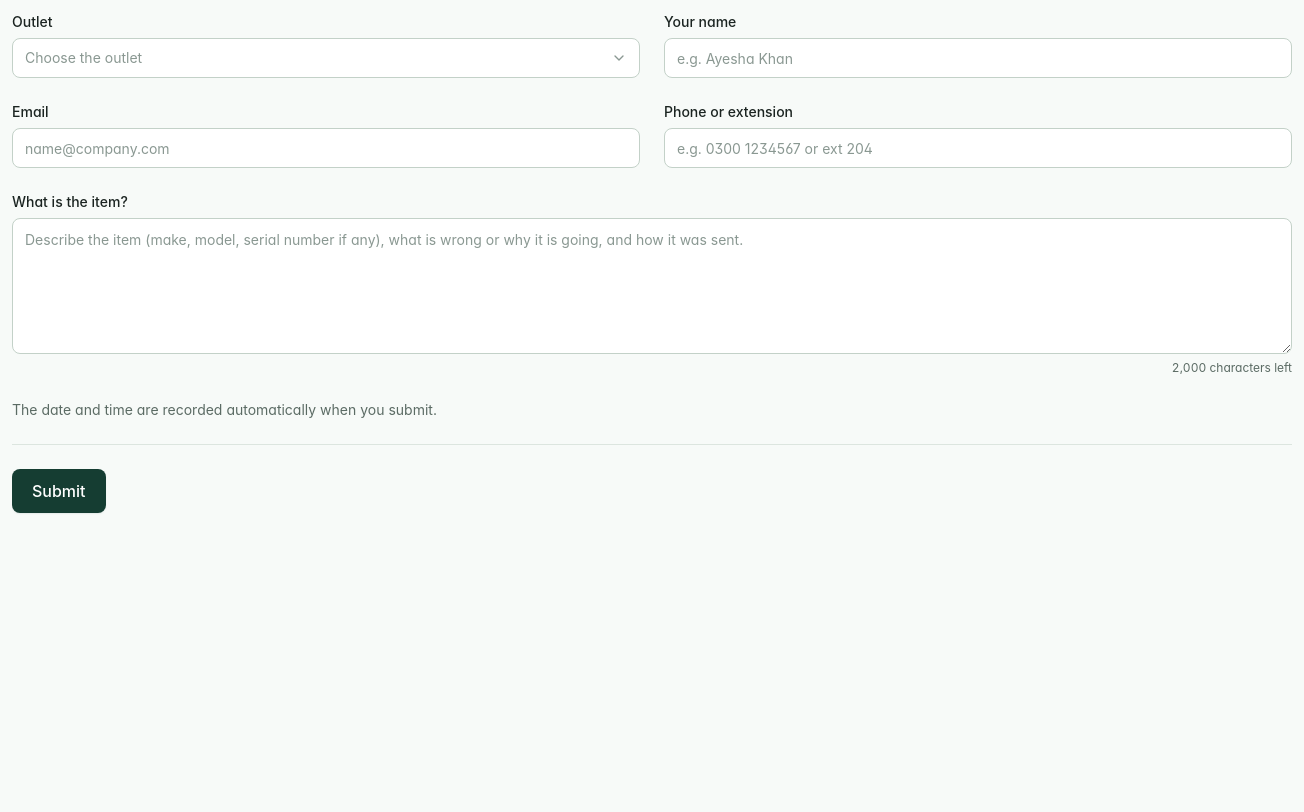
Test: TransferForm (public) › keeps what you typed and explains the problem when the server says no
The image size is (1304, 812).
Type "Ayesha Khan" into the field labelled "Your name" at (978, 58), box [664,38,1292,78]
Type "ayesha@example.com" into the field labelled "Email" at (326, 148), box [12,128,640,168]
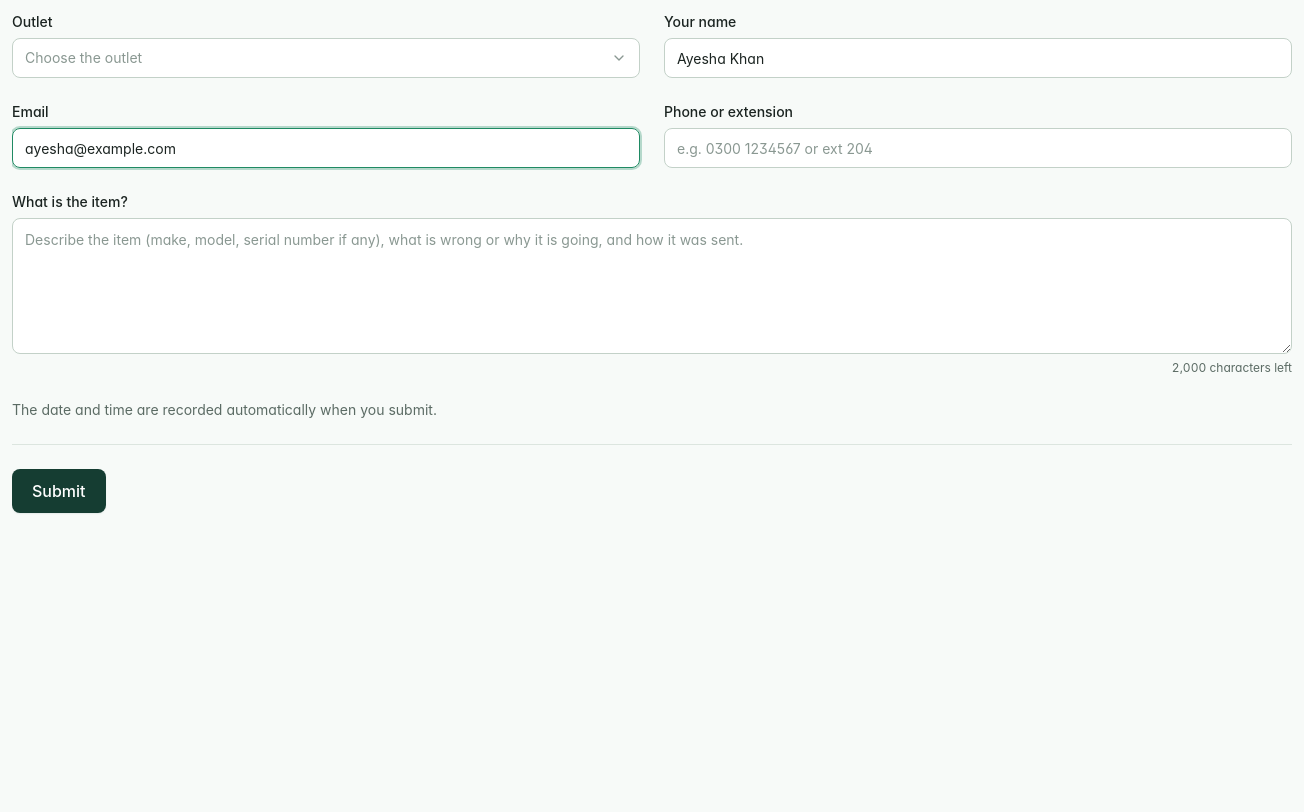
Type "0300 1234567" into the field labelled "Phone or extension" at (978, 148), box [664,128,1292,168]
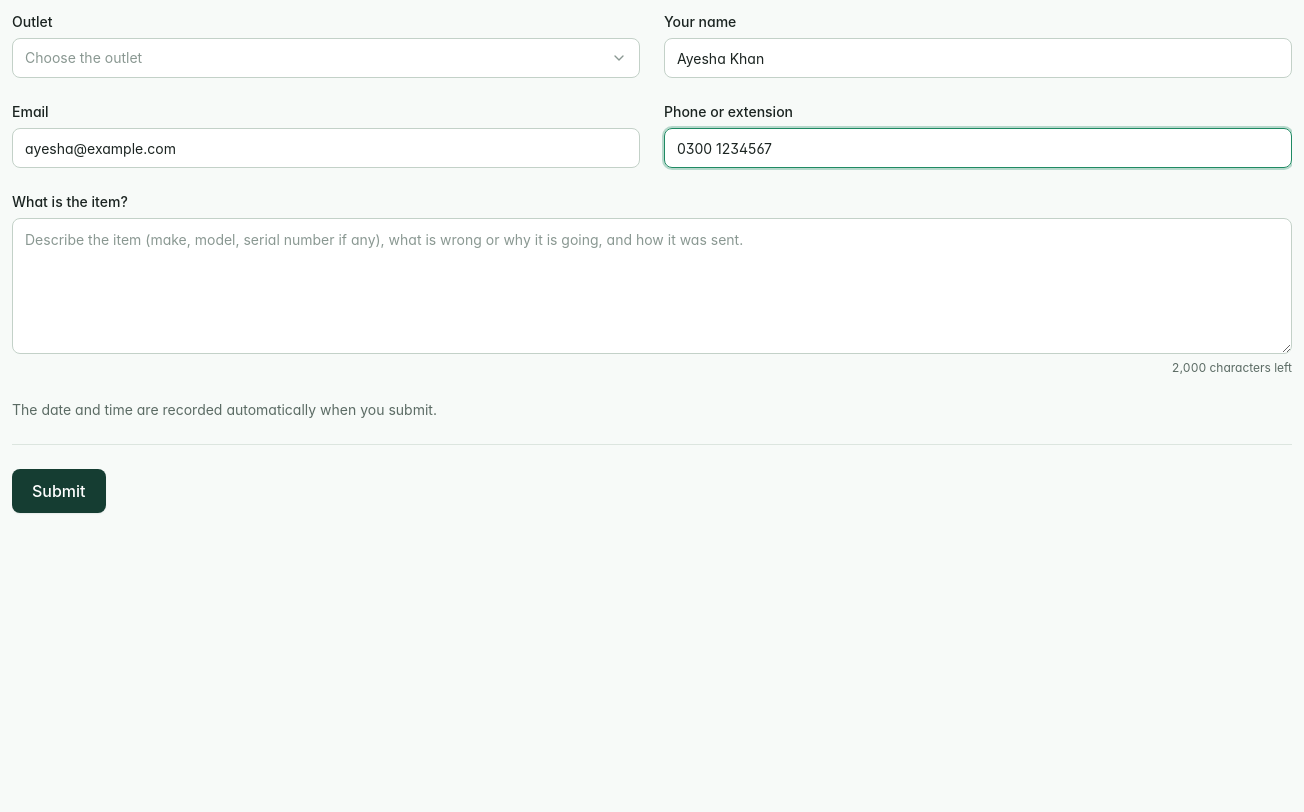
Click the dropdown labelled "Choose the outlet" at (84, 58), box [12,38,640,78]
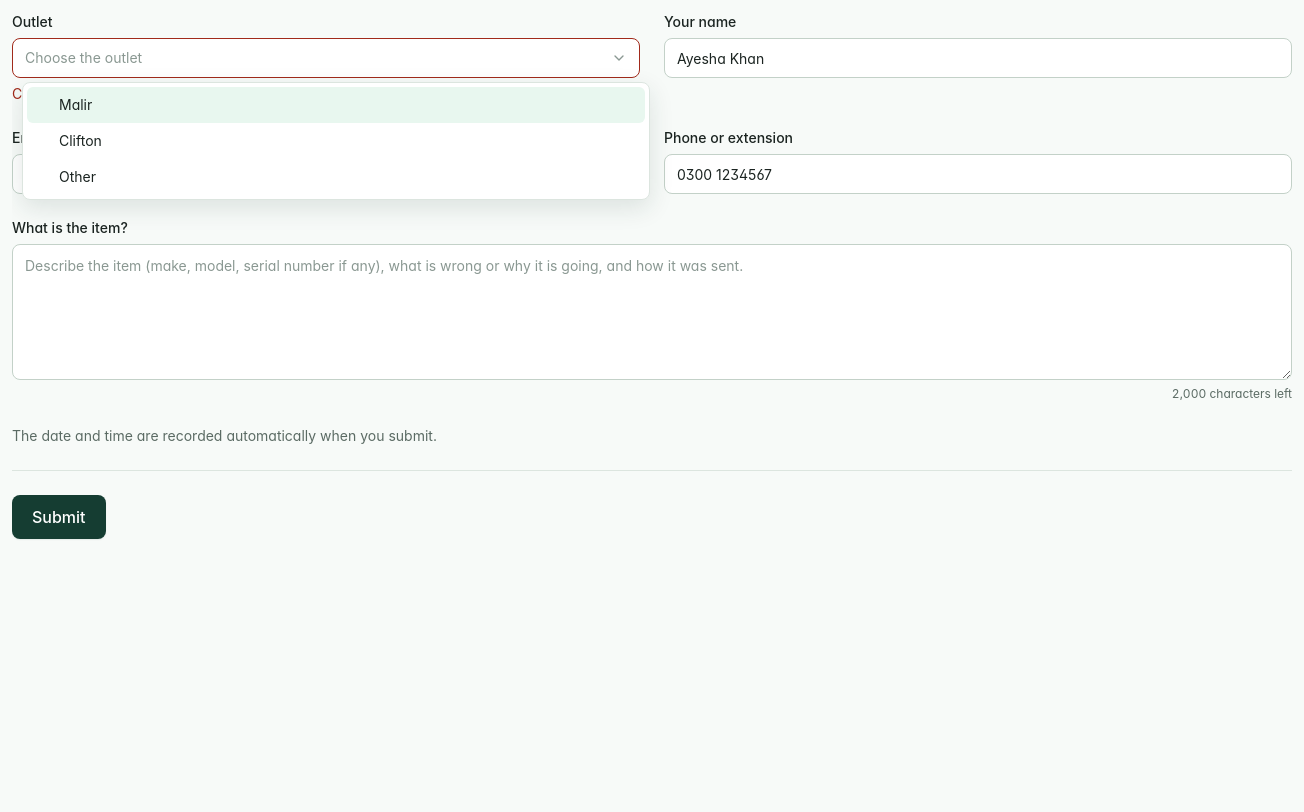
Click the option "Clifton" at (80, 140), box [59,132,102,149]
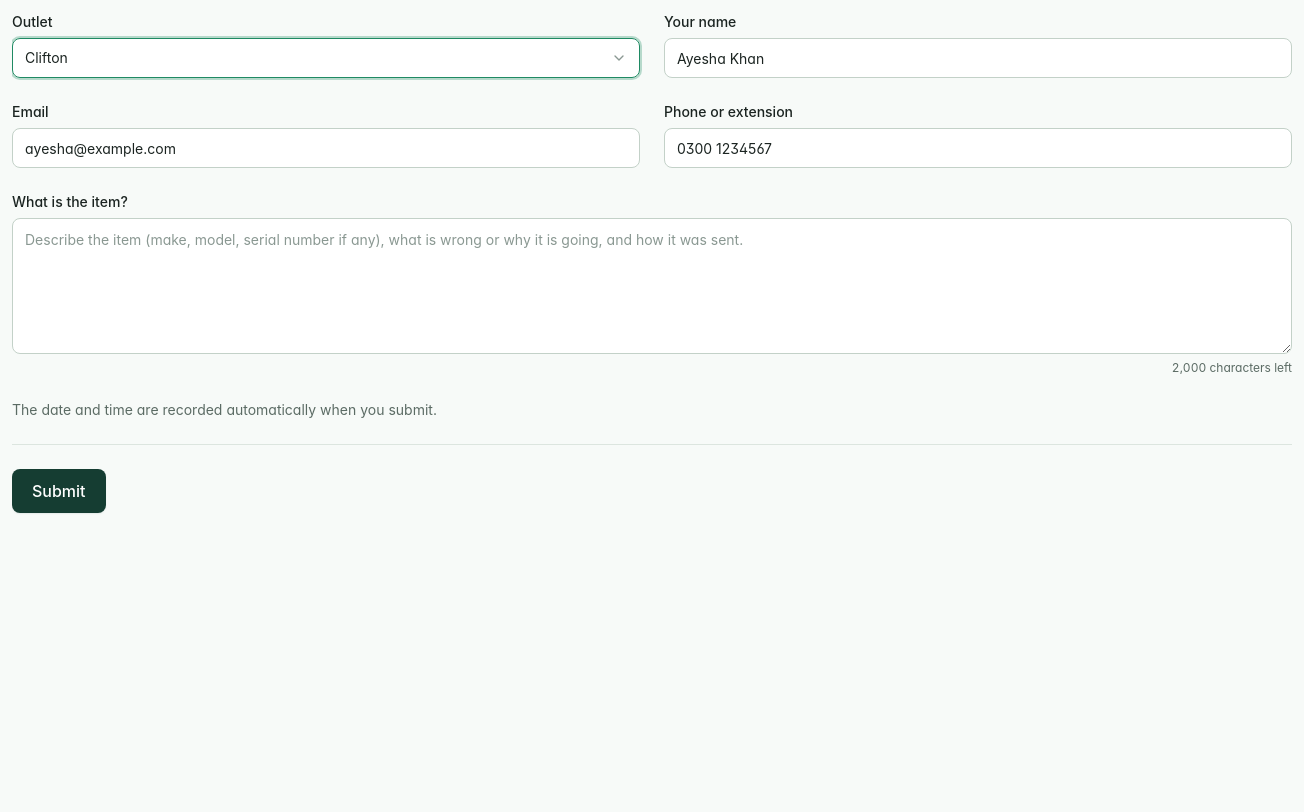
Type "Card reader" into the text box labelled "What is the item?" at (652, 286), box [12,218,1292,354]
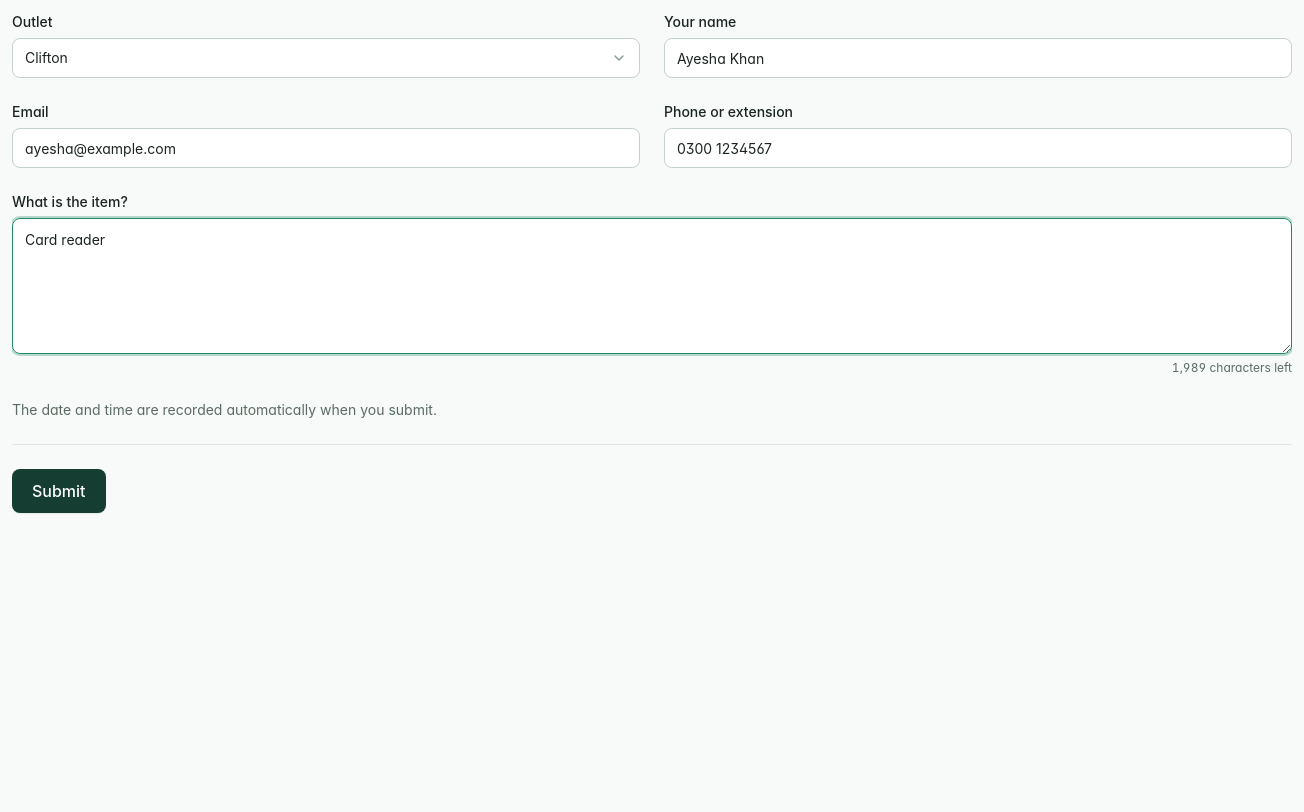
Click the button "Submit" at (59, 491), box [12,469,106,513]
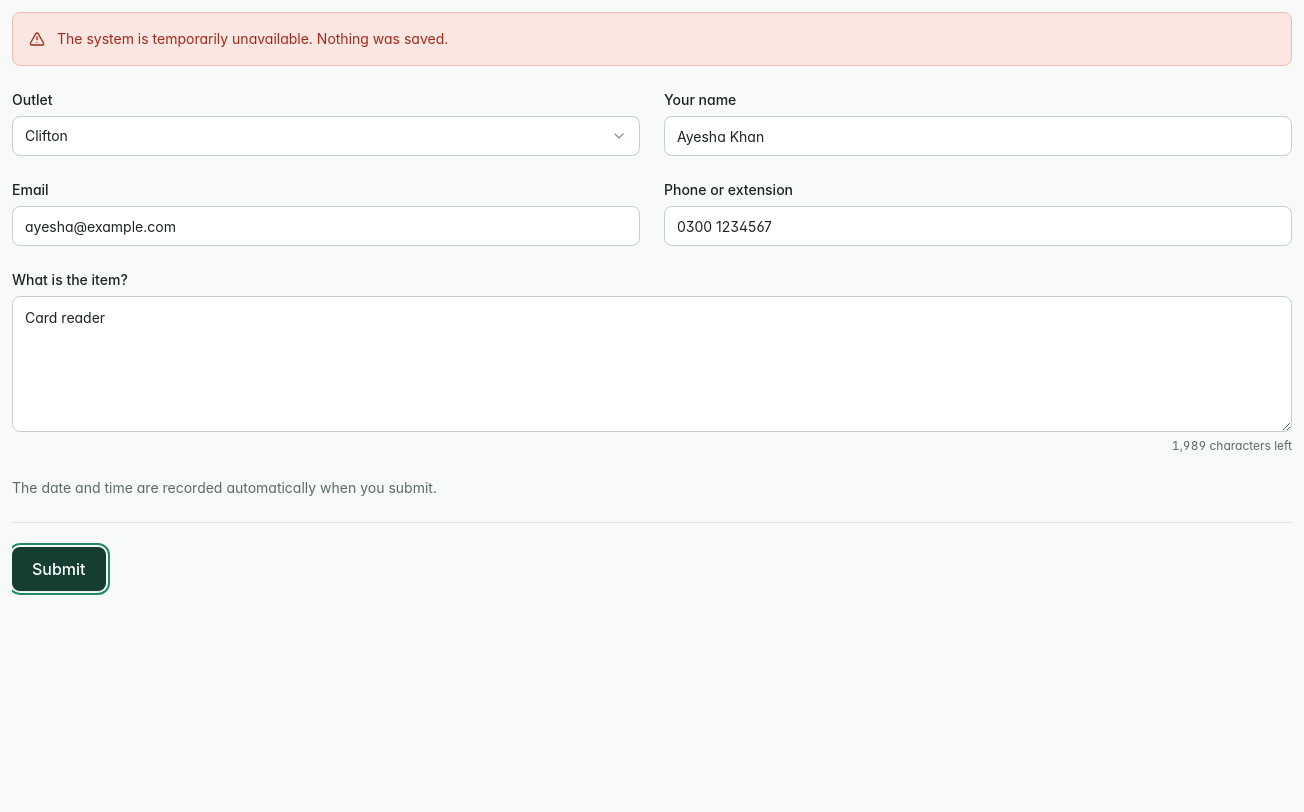
Result: the text "The system is temporarily unavailable. Nothing was saved." is shown at [57,29,448,49]
